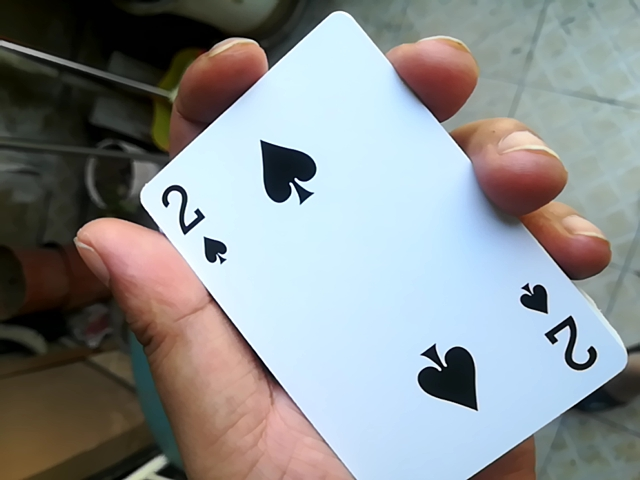ht 2: (120, 18, 605, 479)
